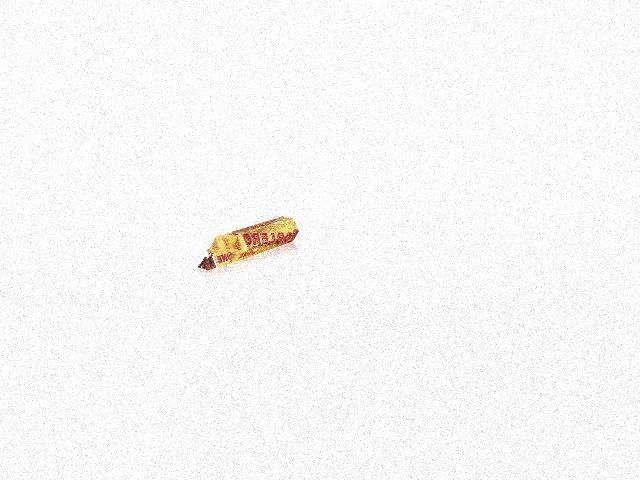chocolate: (197, 214, 297, 274)
